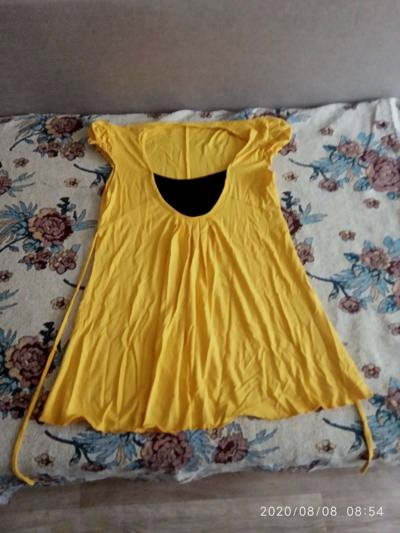Dress: (27, 83, 368, 453)
